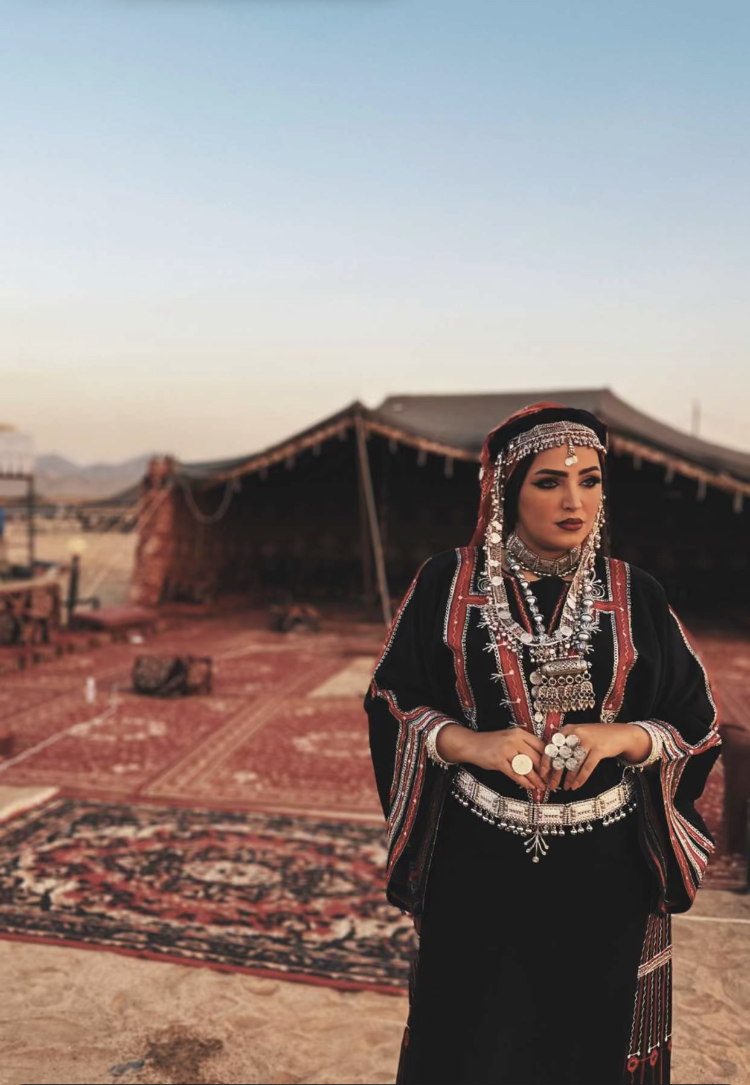Saudi_Founding_Day: (354, 392, 729, 1084)
